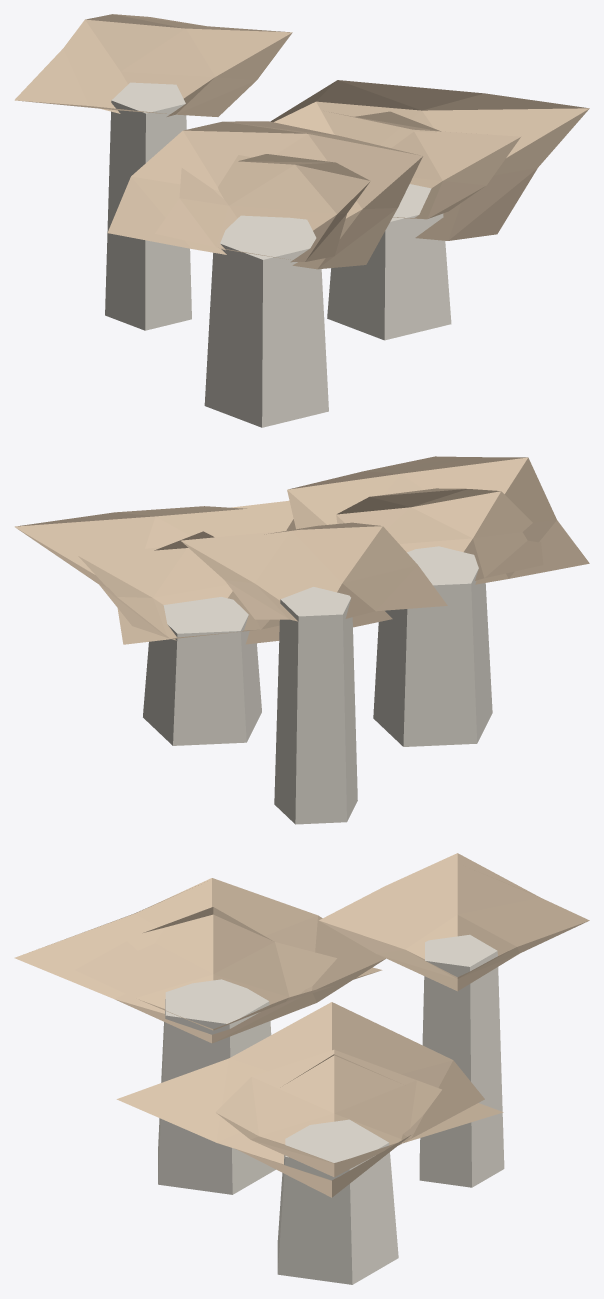
File: mushroom_v19.glb
3 renders of one model, top to bottom at view 1: azimuth 30°, elevation 25°; view 2: azimuth 150°, elevation 25°; view 3: azimuth 270°, elevation 25°, orthographic. The views are drawn at different scales.
Parts seen in each view (by area): view 1: lod0; view 2: lod0; view 3: lod0.
Boxes of the visible parts, x1=… form: lod0: x1=14, y1=14, x2=589, y2=427; lod0: x1=14, y1=456, x2=589, y2=824; lod0: x1=14, y1=853, x2=589, y2=1284.
Size of what is drawn, in the model's own units: 0.8985 by 0.4669 by 0.8138.
